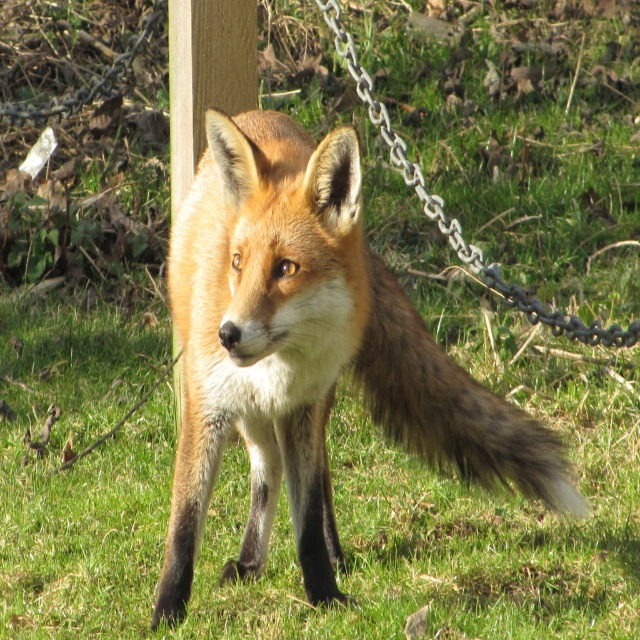Fox: (151, 104, 595, 627)
